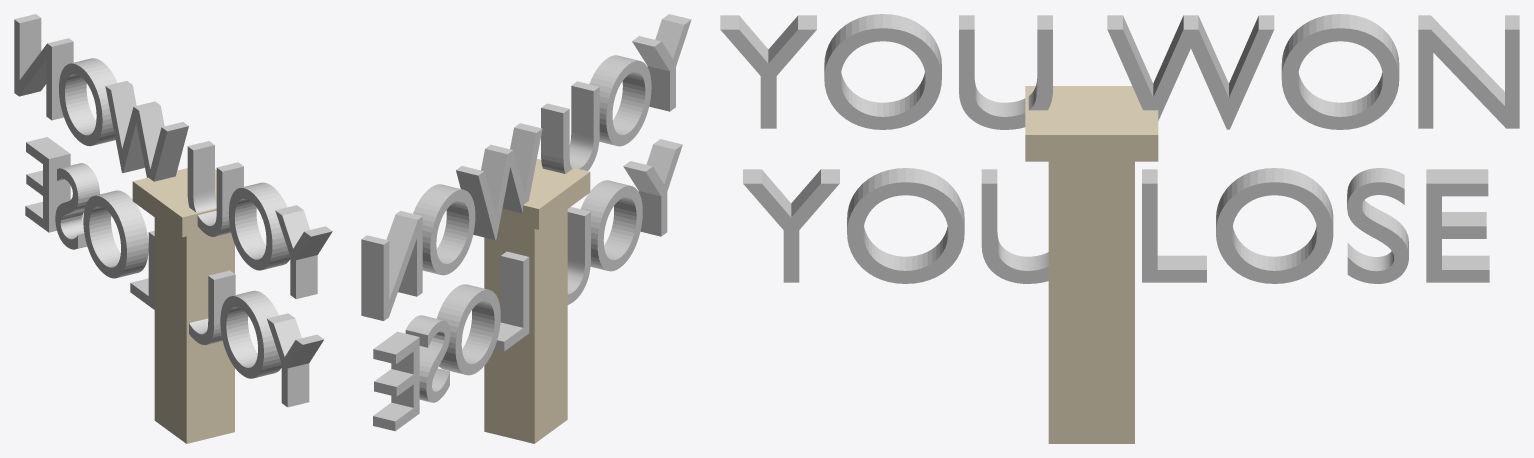
Rendered from texts.glb.
3 views of the same model, side by side, from view 1: azimuth 30°, elevation 25°; view 2: azimuth 150°, elevation 25°; view 3: azimuth 270°, elevation 25° (orthographic). The views are drawn at different scales.
Visible parts, largest first — view 1: Text.001, Text, Cube; view 2: Text.001, Text, Cube; view 3: Text.001, Text, Cube.
Part boxes in pixels (box(x1,y1,x2,y2)): Text.001: box(14, 14, 332, 299); Text: box(25, 137, 324, 407); Cube: box(132, 168, 256, 443); Text.001: box(361, 14, 691, 320); Text: box(373, 139, 682, 431); Cube: box(484, 159, 590, 443); Text.001: box(720, 14, 1519, 129); Text: box(743, 168, 1489, 283); Cube: box(1025, 86, 1158, 443).
Size of the model in its own units: 0.7221 by 2.75 by 4.98.
